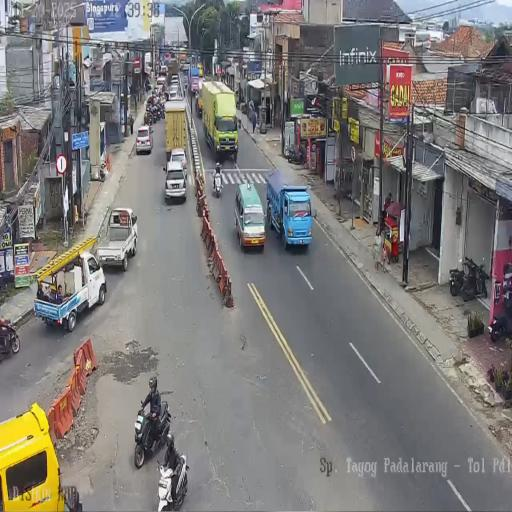car: (97, 205, 138, 271), (234, 183, 266, 251), (167, 147, 187, 181), (135, 126, 153, 154), (156, 75, 166, 91), (197, 93, 203, 116), (169, 88, 179, 101), (160, 64, 167, 77), (180, 61, 185, 71)
motorcycle: (134, 396, 172, 468), (156, 442, 188, 511), (449, 256, 489, 301), (488, 309, 510, 342), (285, 145, 303, 165), (212, 168, 222, 198), (152, 104, 162, 122), (240, 99, 248, 115)
truck: (32, 250, 105, 332), (261, 170, 307, 251), (200, 79, 237, 164), (188, 66, 201, 96), (164, 52, 170, 66)
